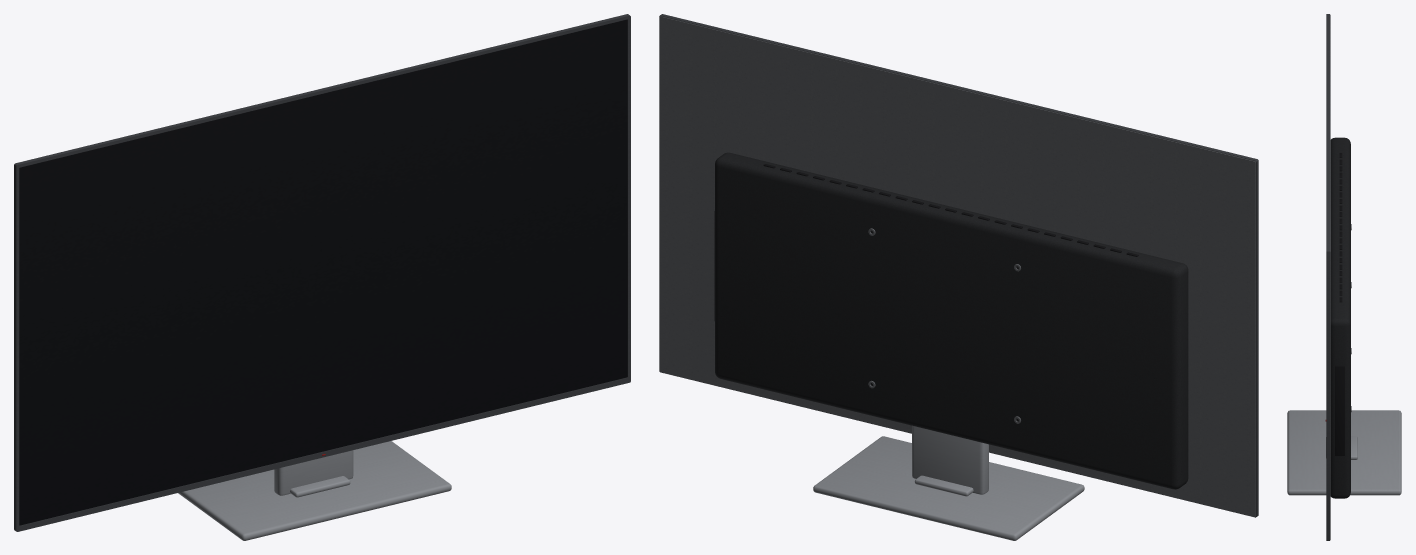
3 views of the same model, side by side, from view 1: azimuth 30°, elevation 25°; view 2: azimuth 150°, elevation 25°; view 3: azimuth 270°, elevation 25° (orthographic). The views are drawn at different scales.
Visible parts, largest first — view 1: Screen, Pedestal stand, Bezel frame; view 2: Rear housing, VESA inserts, Pedestal stand, Bezel frame, Vents and connector panel; view 3: Pedestal stand, Rear housing, Bezel frame, Vents and connector panel, VESA inserts.
Part boxes in pixels (x1=…): Screen: x1=19, y1=19, x2=627, y2=525; Pedestal stand: x1=178, y1=441, x2=451, y2=540; Bezel frame: x1=14, y1=14, x2=630, y2=531; Rear housing: x1=715, y1=152, x2=1188, y2=489; VESA inserts: x1=659, y1=16, x2=1255, y2=517; Pedestal stand: x1=813, y1=425, x2=1084, y2=540; Bezel frame: x1=659, y1=14, x2=1258, y2=517; Vents and connector panel: x1=714, y1=164, x2=1138, y2=320; Pedestal stand: x1=1287, y1=410, x2=1401, y2=495; Rear housing: x1=1330, y1=137, x2=1350, y2=498; Bezel frame: x1=1326, y1=14, x2=1329, y2=540; Vents and connector panel: x1=1335, y1=153, x2=1344, y2=455; VESA inserts: x1=1330, y1=14, x2=1351, y2=540.
Bounding box in the file's own units: 1.23 × 0.7824 × 0.25.
7 materials, 7 textured.
